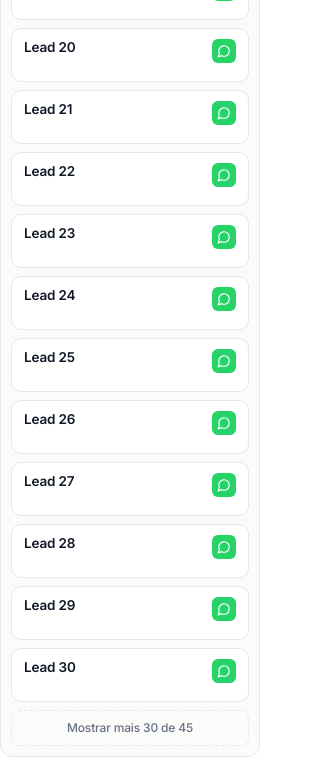
Scenario: CrmPipeline com muitos leads › monta a coluna em lotes, mas a contagem mostra todos
(page scrolled)
Click the button "Mostrar mais 30 de 45". click: (130, 728)
box: [11,710,249,746]
(page scrolled)
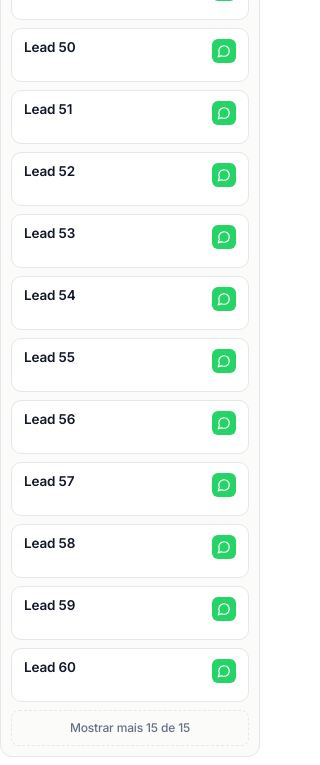
Click the button "Mostrar mais 15 de 15". click: (130, 728)
box: [11,710,249,746]
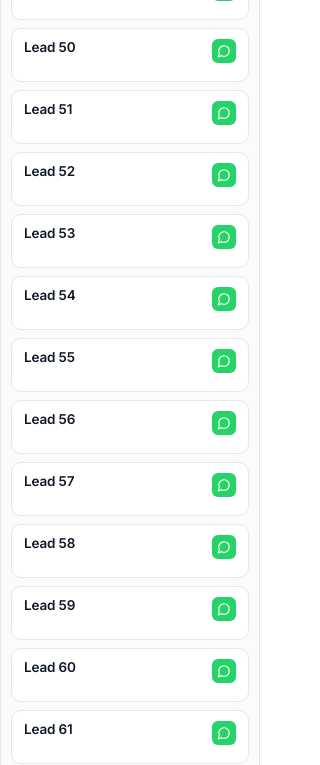
Result: the button "Mostrar mais" is gone
